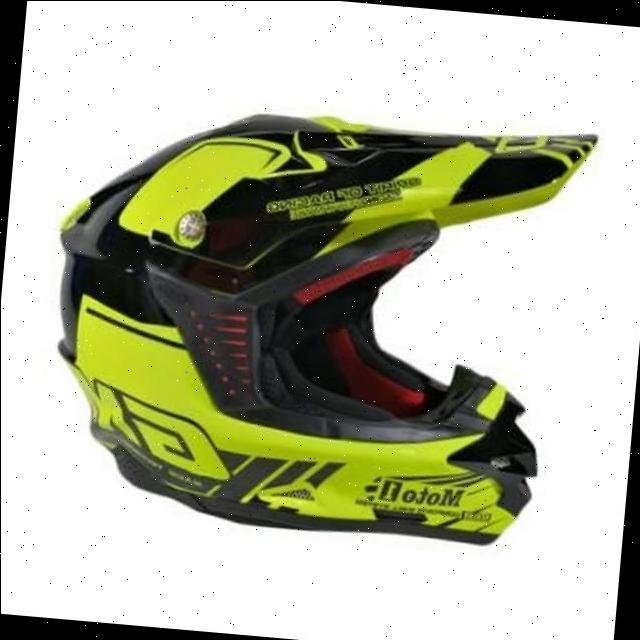Helm: (32, 71, 610, 554)
